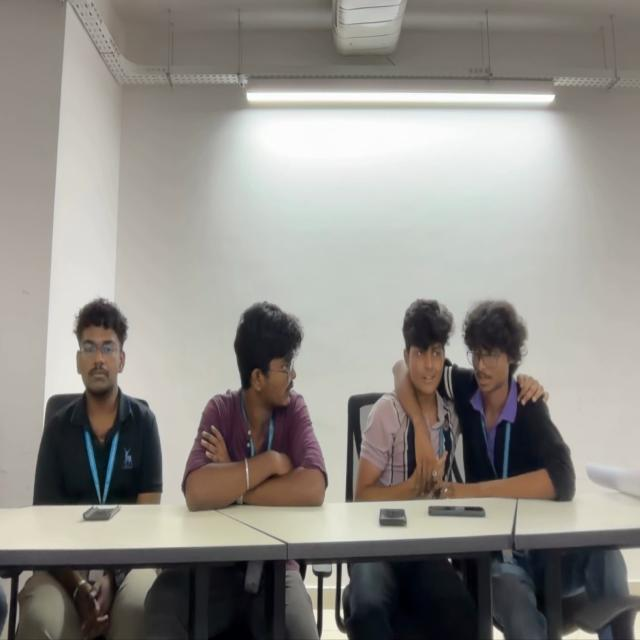Isolated: (33, 300, 164, 499)
socializing: (185, 288, 577, 502)
